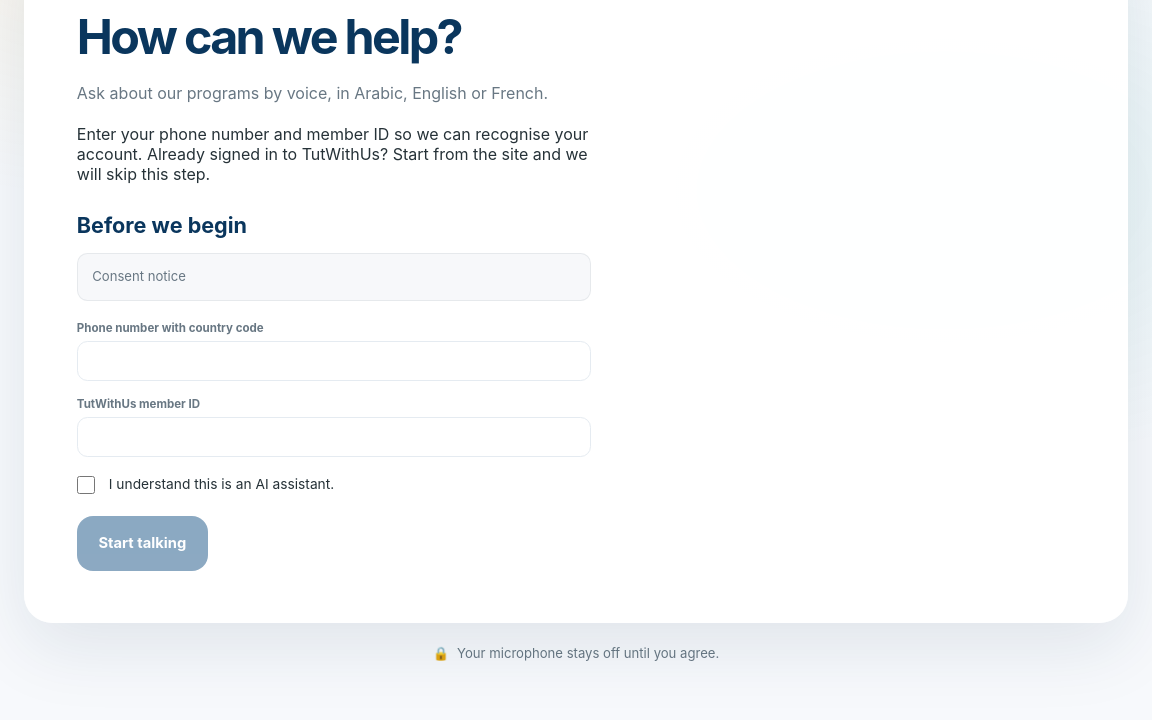
Test: voice page call flow › does not create a backend session when microphone permission is denied
(page scrolled)
Expected: the text "Consent notice" is shown, x1=92 y1=268 x2=186 y2=284
Step 1. Click the checkbox labelled "I understand this is an AI assistant." → x=86, y=485, box x1=77 y1=476 x2=95 y2=494
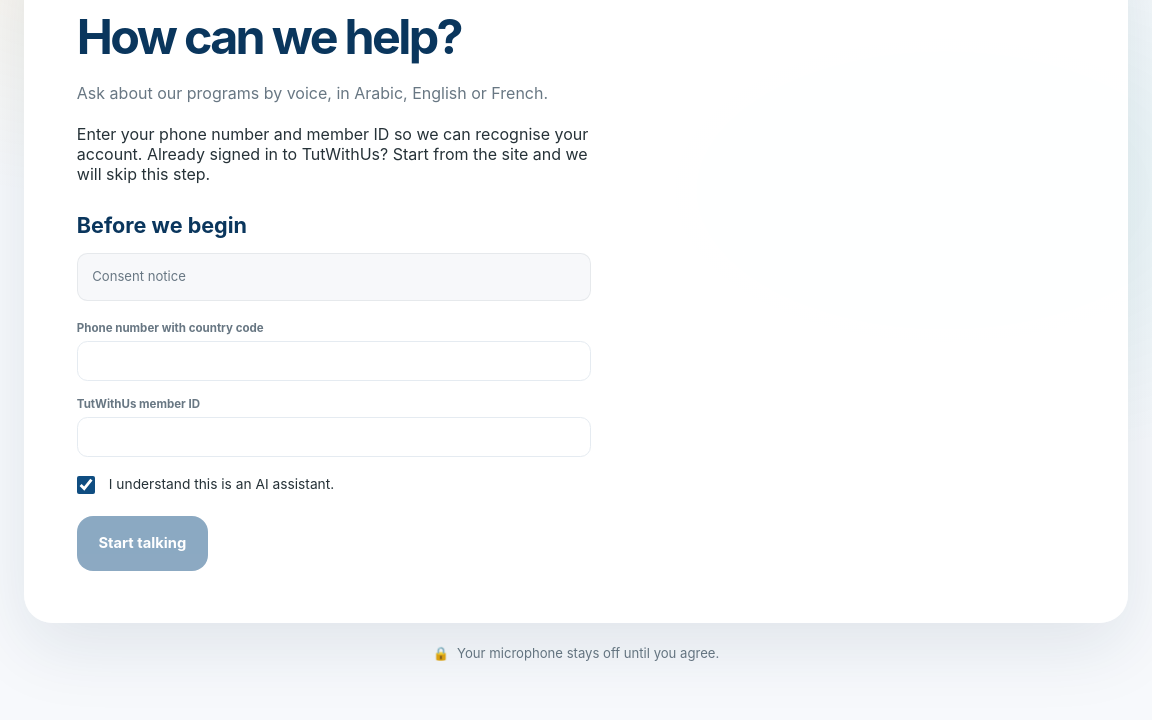
Step 2. Type "+966501234567" into the field labelled "Phone number with country code" → x=334, y=361, box x1=77 y1=341 x2=591 y2=381
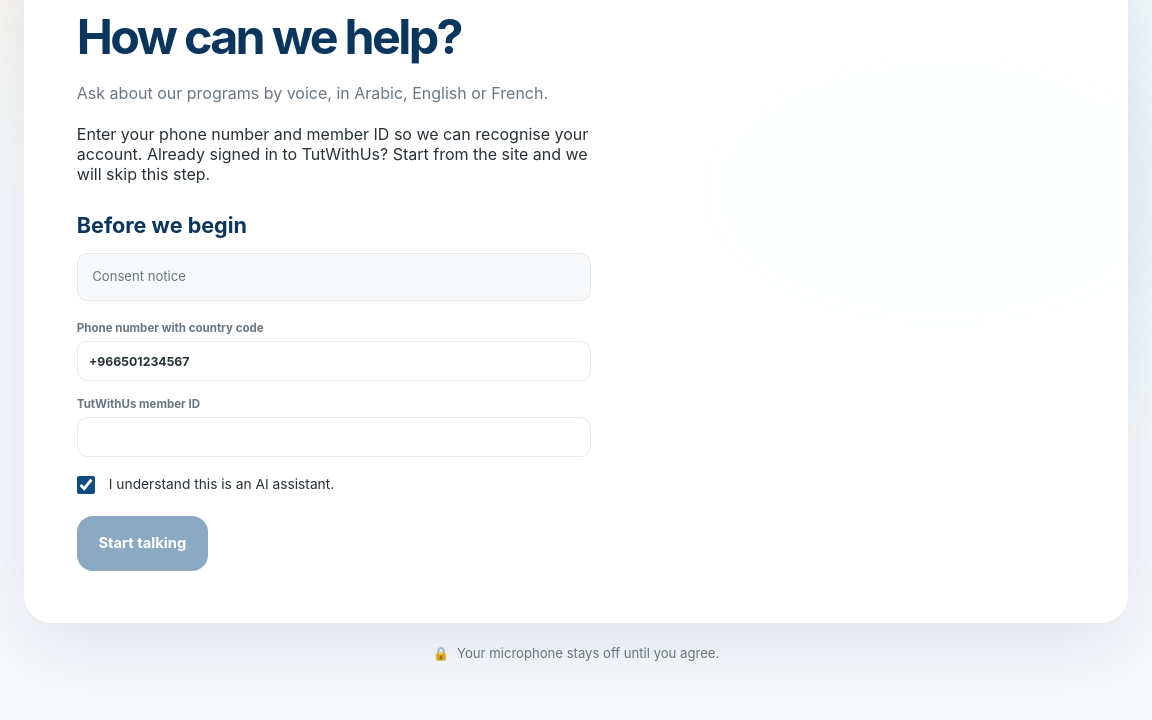
Step 3. Type "2610037" into the field labelled "TutWithUs member ID" → x=334, y=438, box x1=77 y1=418 x2=591 y2=458
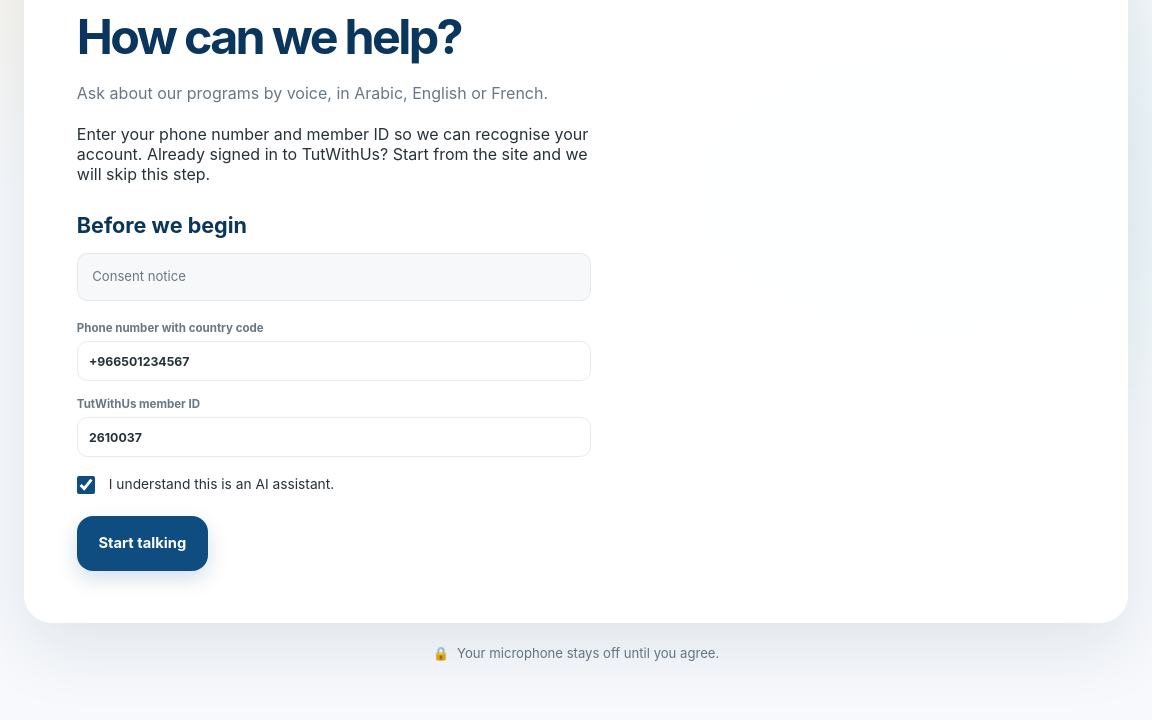
Step 4. Click the button "Start talking" → x=142, y=543, box x1=77 y1=516 x2=208 y2=571
(page scrolled)
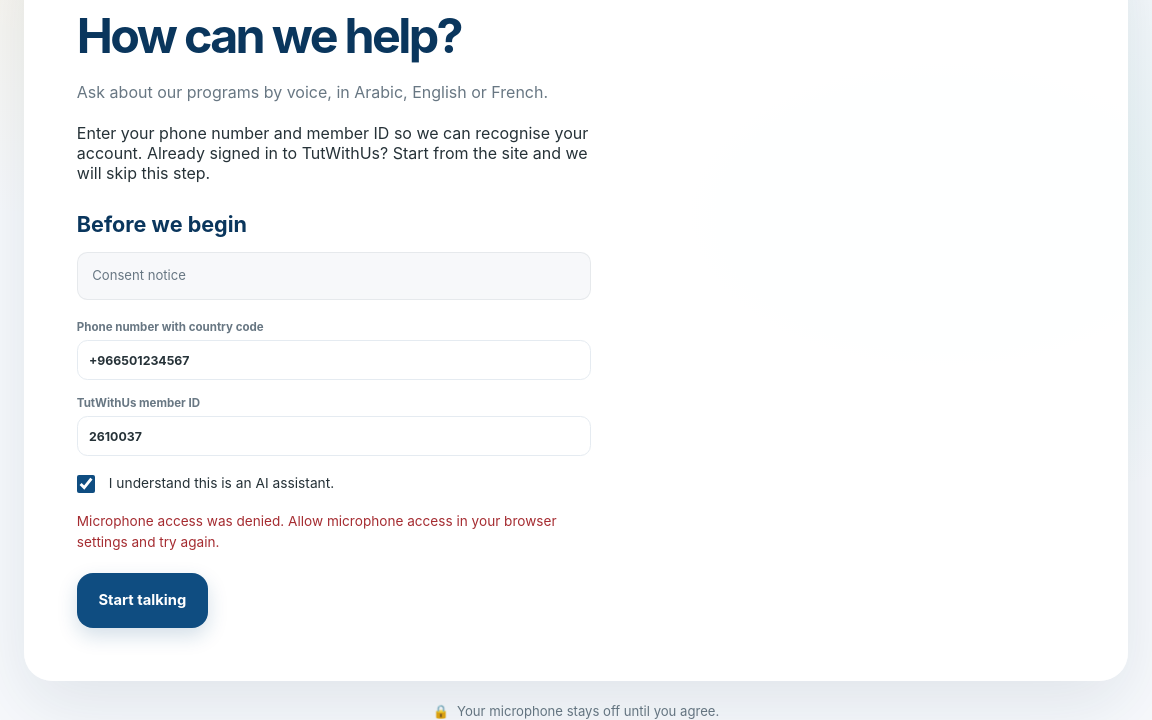
Now the message shows "Microphone access was denied.", box x1=77 y1=513 x2=557 y2=550
